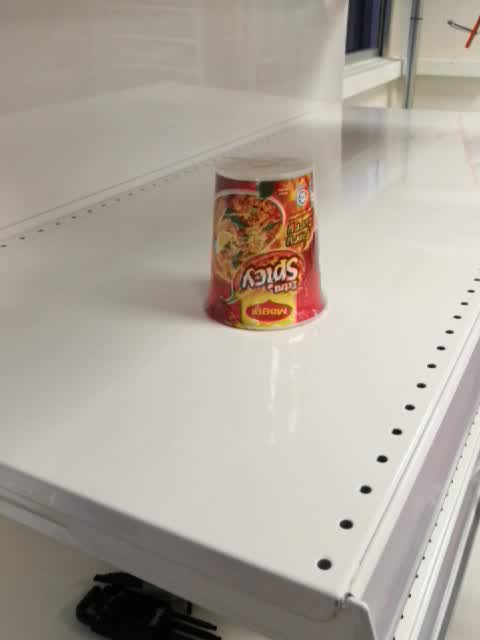maggi: (204, 153, 329, 332)
